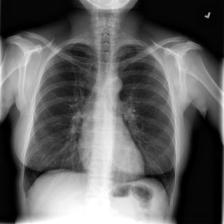normal: (18, 36, 180, 211)
